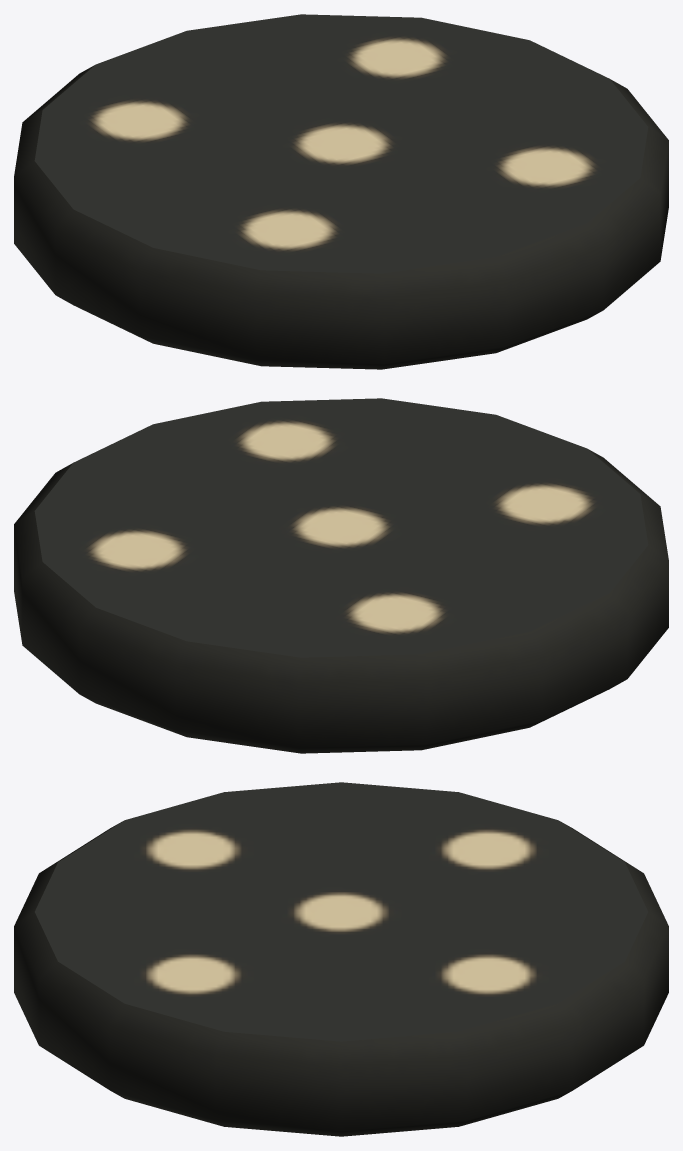
File: ur_counter_dark.glb
3 renders of one model, top to bottom at view 1: azimuth 30°, elevation 25°; view 2: azimuth 150°, elevation 25°; view 3: azimuth 270°, elevation 25°, orthographic.
Visible parts, largest first — view 1: UR_Counter_Dark; view 2: UR_Counter_Dark; view 3: UR_Counter_Dark.
Boxes of the visible parts, left/top/right/bottom form: UR_Counter_Dark: left=14, top=14, right=668, bottom=369; UR_Counter_Dark: left=14, top=398, right=668, bottom=753; UR_Counter_Dark: left=14, top=782, right=668, bottom=1136.
Size of the model in its own units: 0.0206 by 0.0033 by 0.0206.
1 material, 1 textured.
